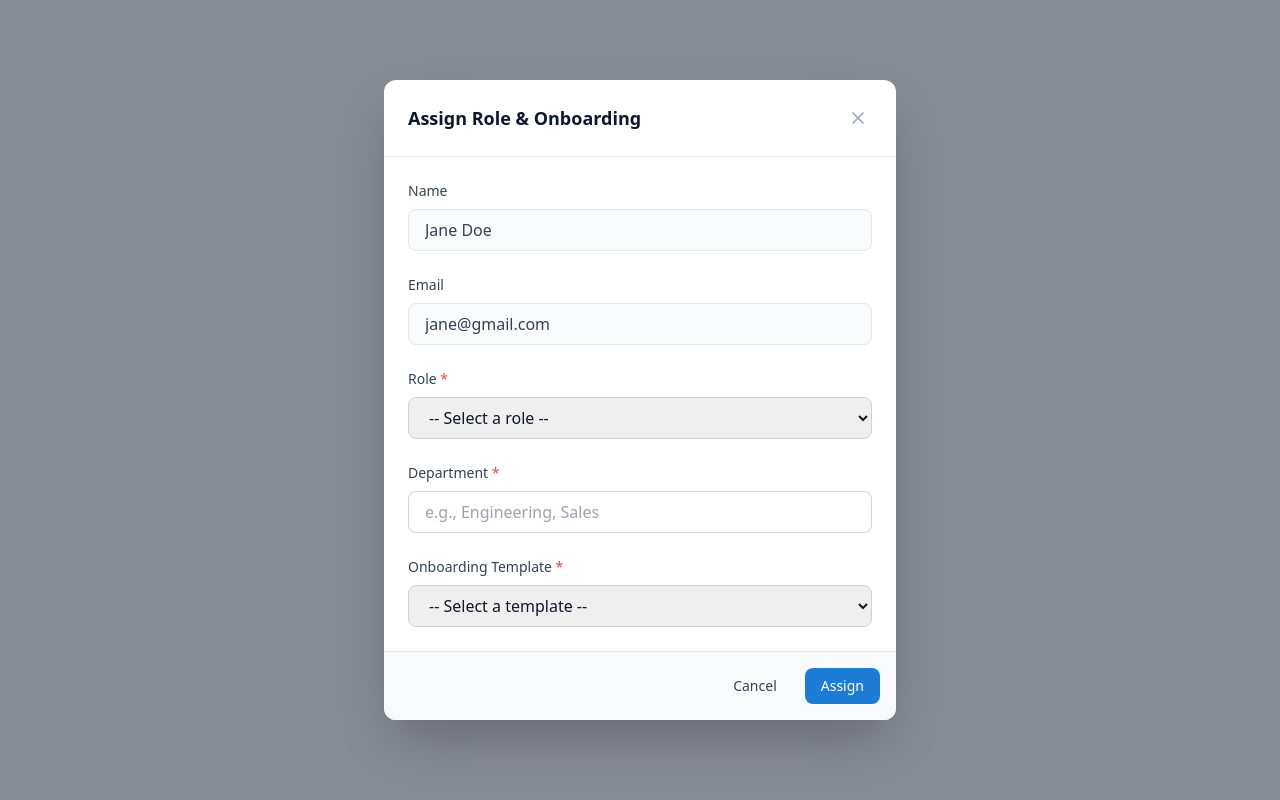
it: AssignRoleModal › validates required fields (role, department, template)
Note: Click submit without filling in fields
What coordinates should you click on to do the following:
click the button "Assign"
I would click on:
 (842, 686)
Its box is [805,668,880,704].
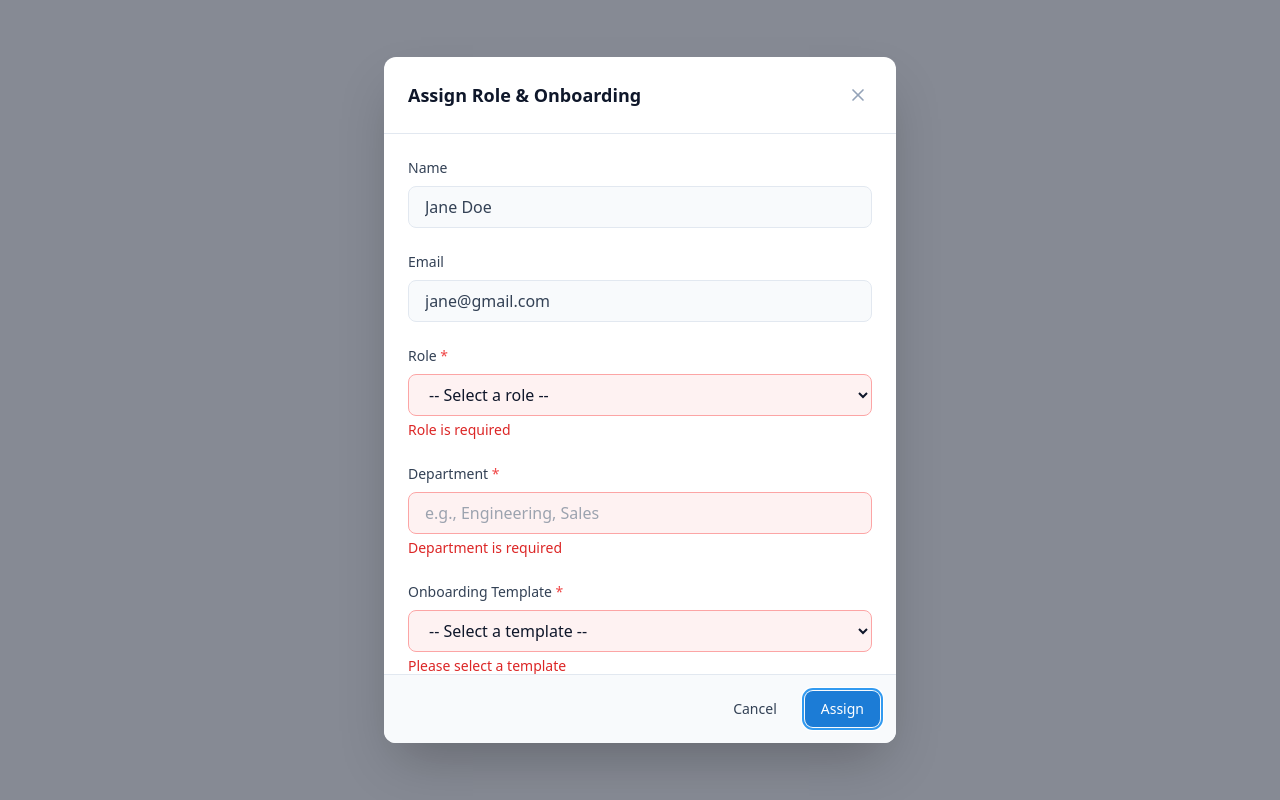
Expected: the text "Role is required" is shown, [408,420,511,439]
Expected: the text "Department is required" is shown, [408,538,562,557]
Expected: the text "Please select a template" is shown, [408,656,566,674]
